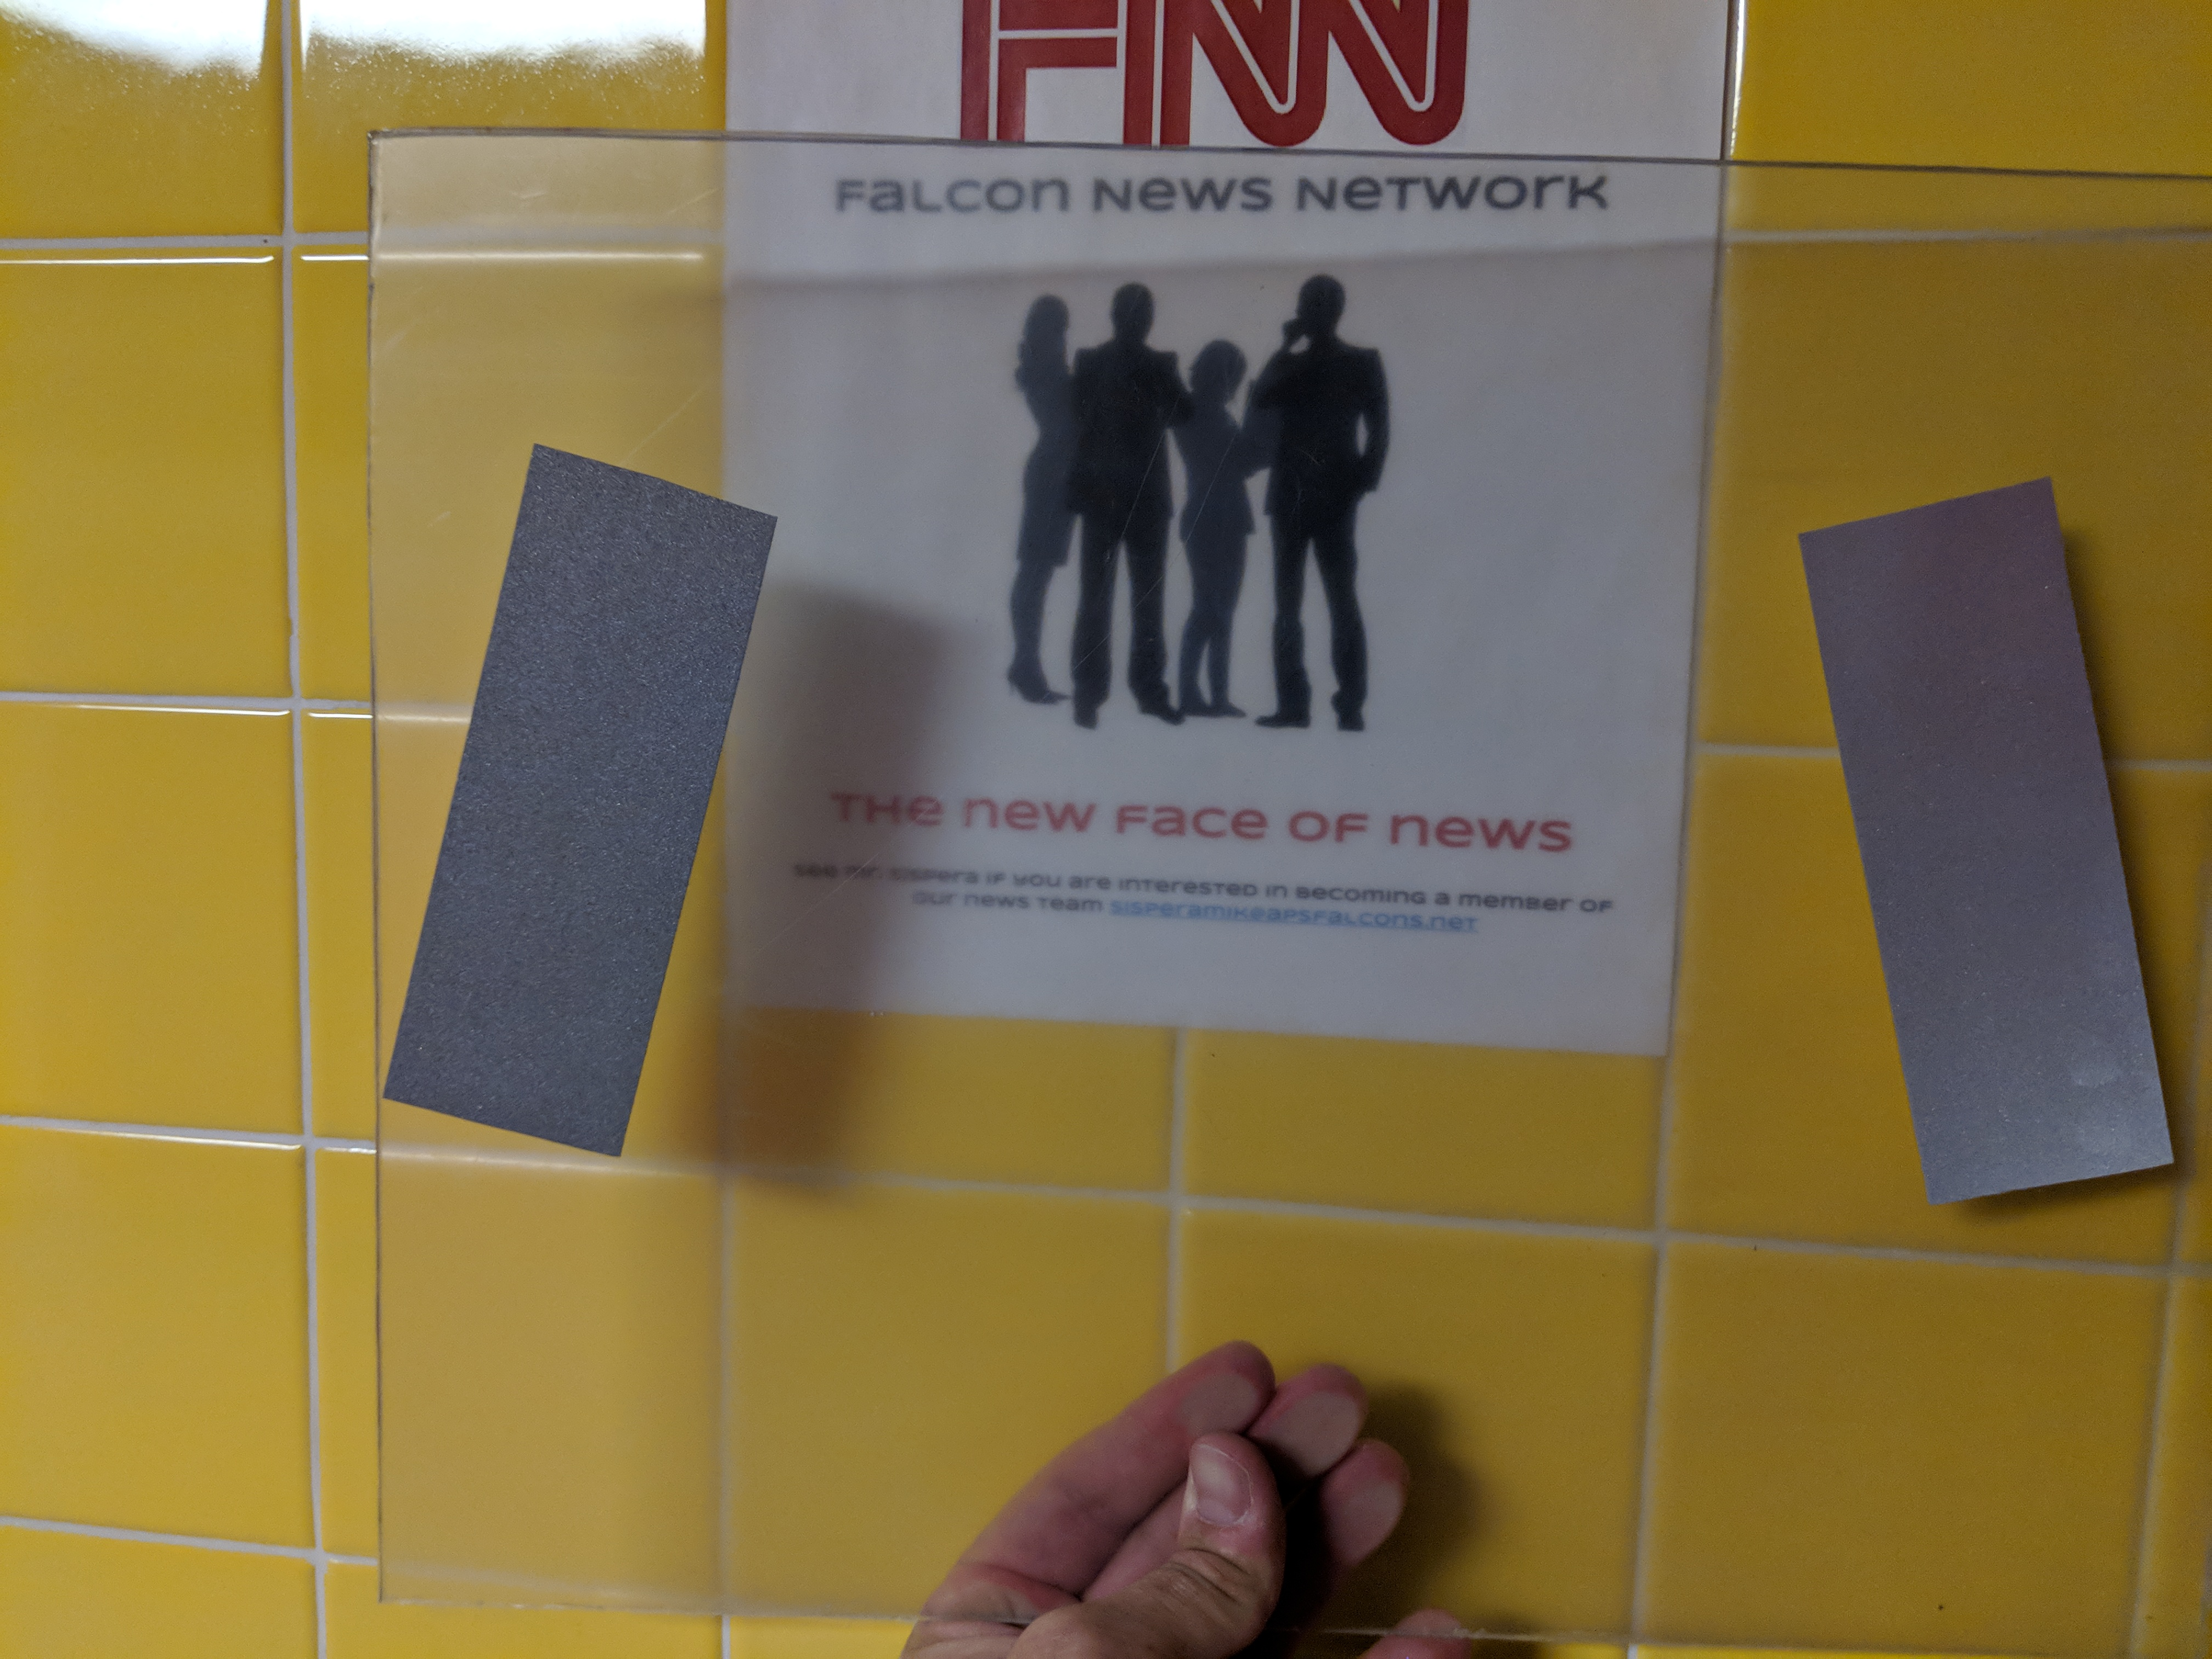vision_target: (383, 420, 2198, 1229)
